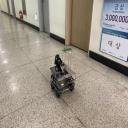cart: (49, 64, 76, 98)
